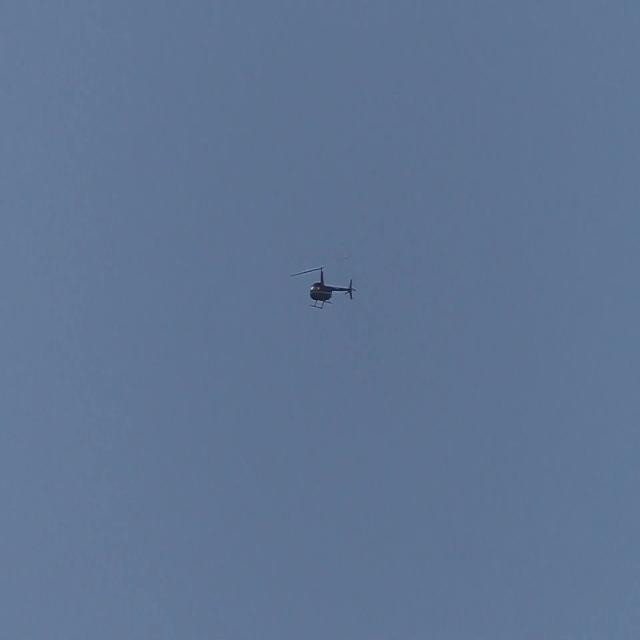CIV_HELO: (309, 265, 356, 309)
